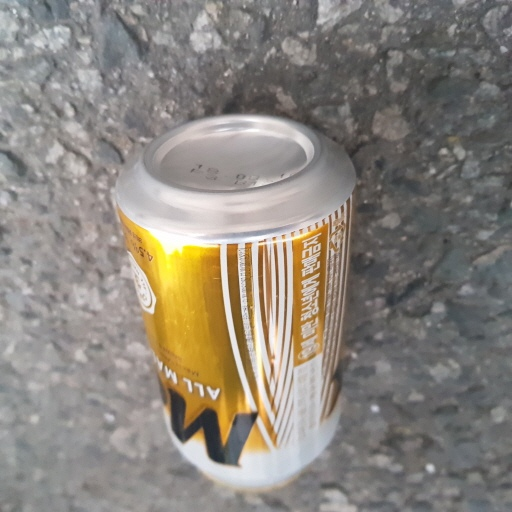Metal_0: (111, 110, 354, 490)
